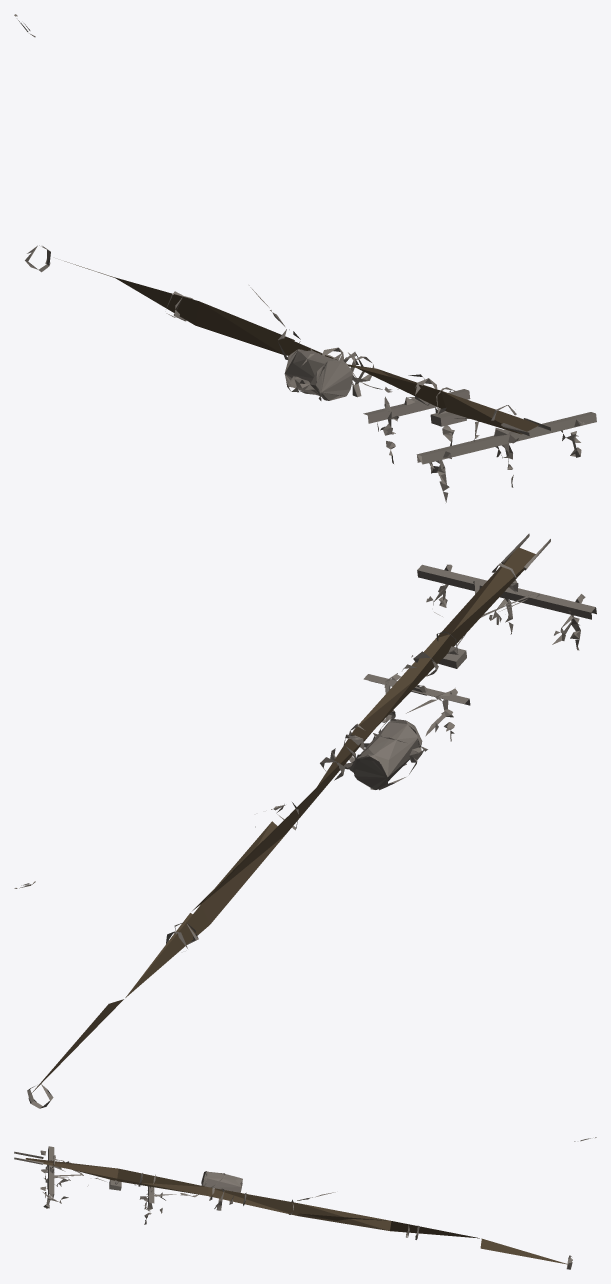
File: power-pole-fallen-lod1.glb
3 renders of one model, top to bottom at view 1: azimuth 30°, elevation 25°; view 2: azimuth 150°, elevation 25°; view 3: azimuth 270°, elevation 25°, orthographic. The views are drawn at different scales.
Bounding box in the file's own units: 1.2 × 1.56 × 6.27.
